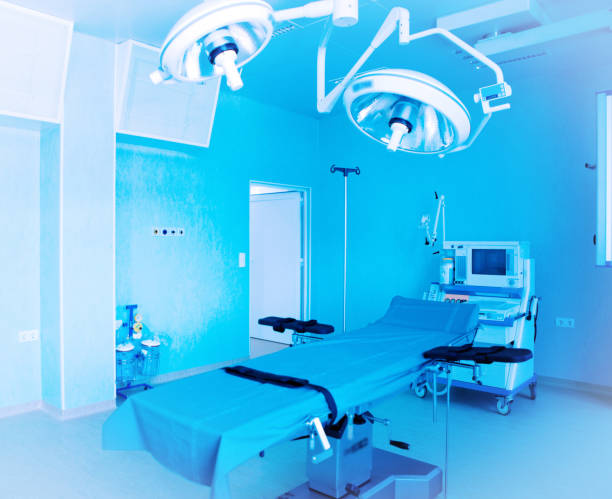bedside_monitor: (462, 238, 538, 284)
iv_pole: (331, 162, 360, 337)
operating_bed: (102, 294, 532, 499)
surgical_light: (342, 67, 472, 161), (159, 1, 275, 88)
ventilator: (426, 238, 543, 416)
